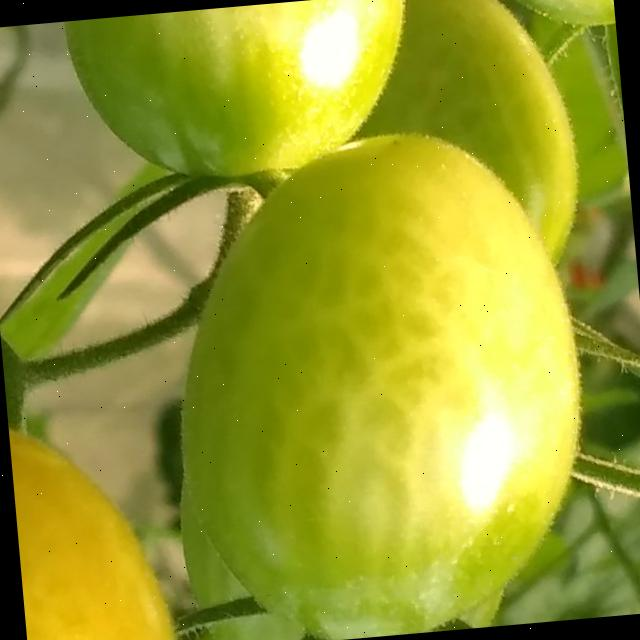tomato: (53, 0, 640, 640)
